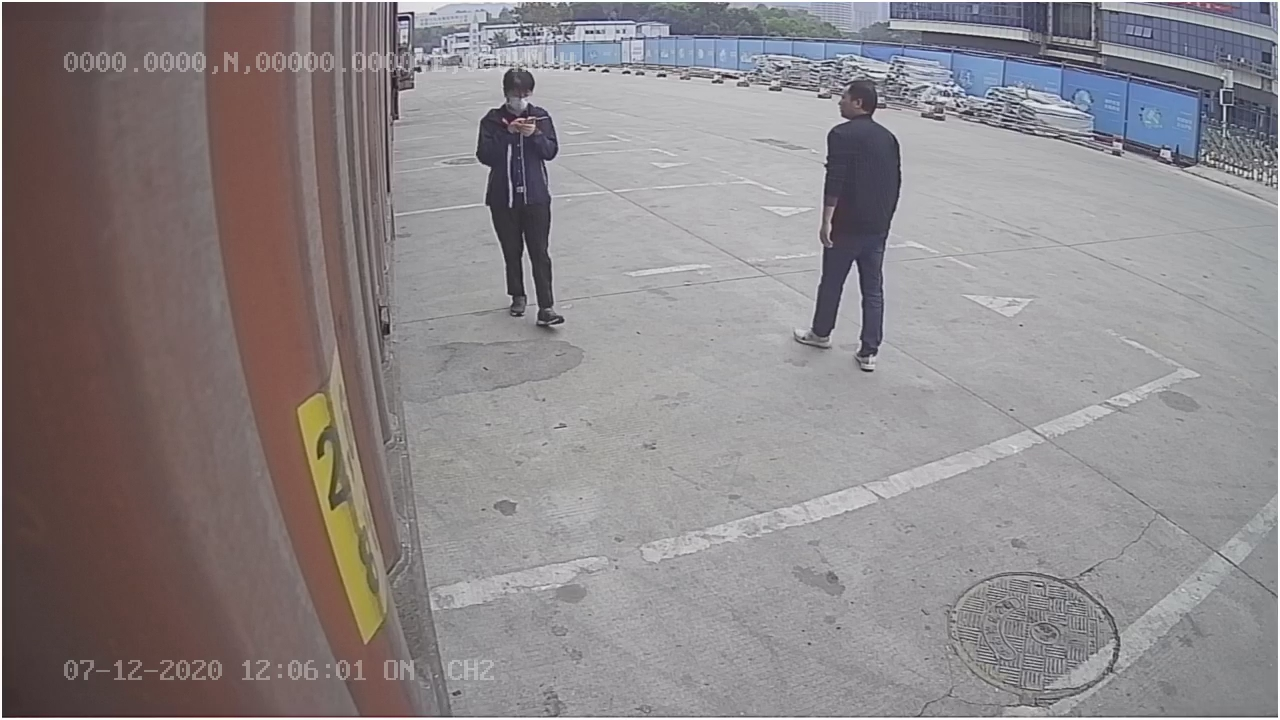person: (789, 73, 900, 375), (474, 62, 569, 329)
